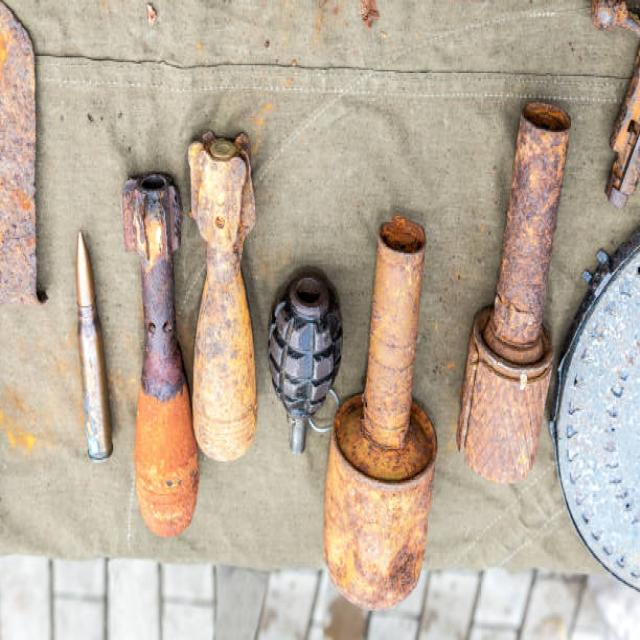grenade: (259, 275, 344, 460)
